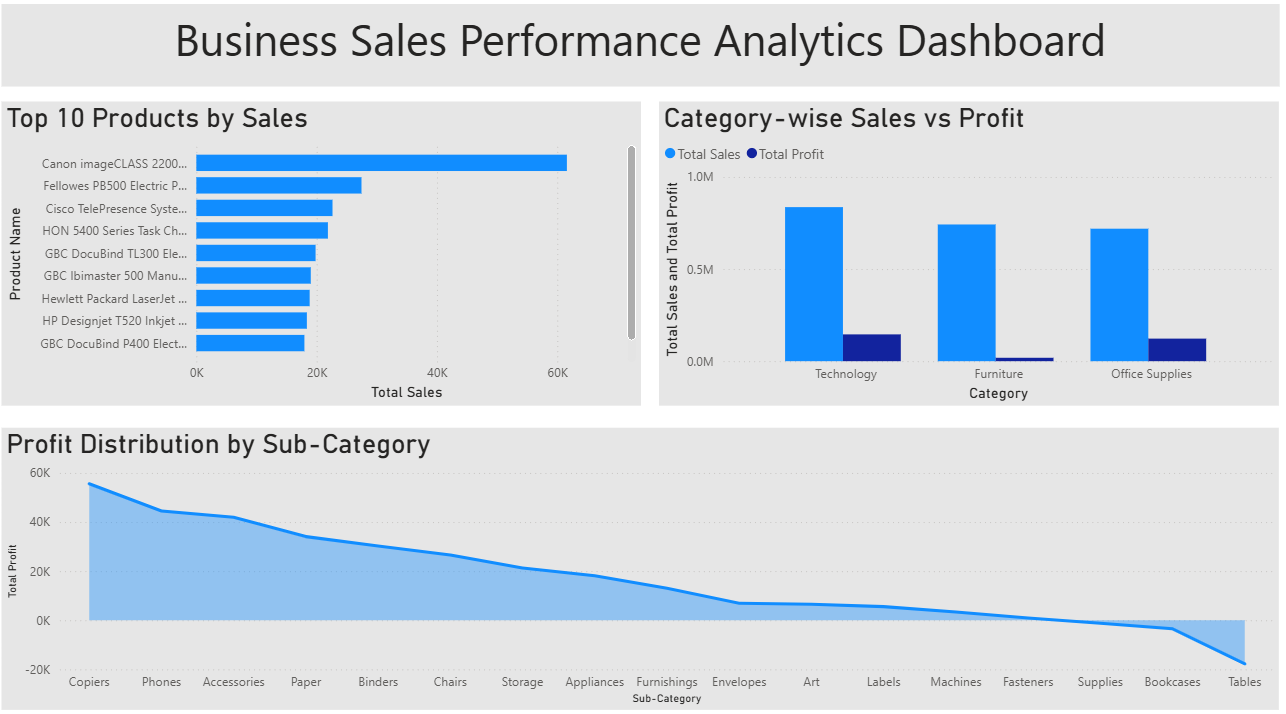

The page's visual inventory and layout, read from the dashboard file:
{"tool":"powerbi","page":{"name":"Product & Category Analysis","canvas":[1280,720],"ordinal":1},"visuals":[{"type":"barChart","title":"Top 10 Products by Sales","fields":{"Category":["Sample - Superstore.Product Name"],"Y":["Sample - Superstore.Total Sales"]},"box":[12.3,115.3,625.7,297.8],"z":0},{"type":"areaChart","title":"Profit Distribution by Sub-Category","fields":{"Category":["Sample - Superstore.Sub-Category"],"Y":["Sample - Superstore.Total Profit"]},"box":[12.2,434.1,1249.7,276.4],"z":1000},{"type":"clusteredColumnChart","title":"Category-wise Sales vs Profit","fields":{"Category":["Sample - Superstore.Category"],"Y":["Sample - Superstore.Total Sales","Sample - Superstore.Total Profit"]},"box":[655.9,115.3,606.5,297.8],"z":2000},{"type":"textbox","box":[12.3,19.2,1250.1,81],"z":2001}]}

Visuals, with their boxes in screenshot pixels (x1, y1, x2, y2), scaled from the page's 1280x720 canvas onto the 1286x714 screenshot:
"Top 10 Products by Sales" barChart: [12, 114, 641, 410]
"Profit Distribution by Sub-Category" areaChart: [12, 430, 1268, 705]
"Category-wise Sales vs Profit" clusteredColumnChart: [659, 114, 1268, 410]
textbox: [12, 19, 1268, 99]
